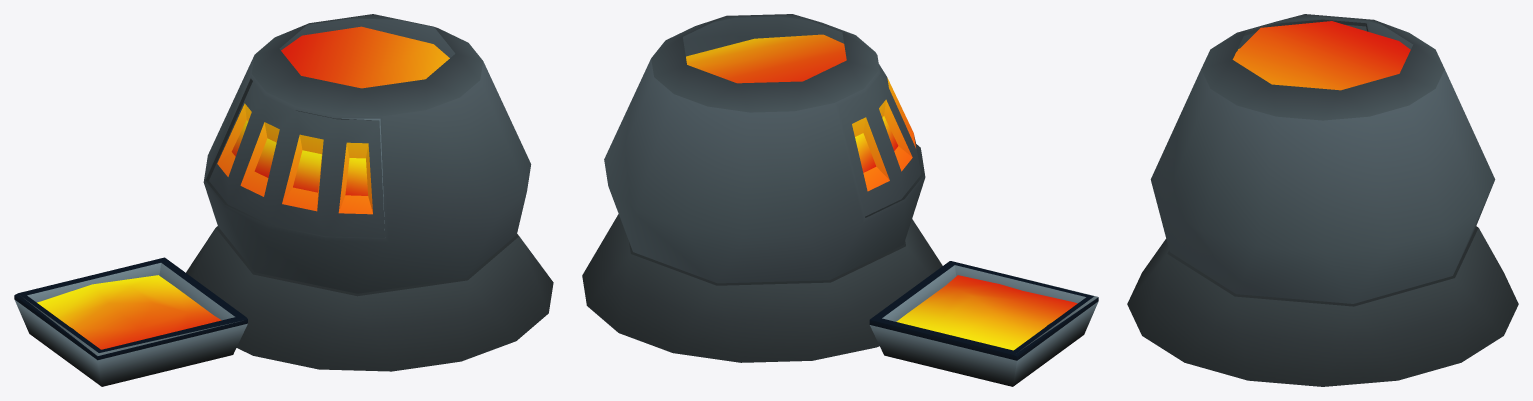
The model's file is smelter_lvl1.glb.
3 renders of one model, left to right at view 1: azimuth 30°, elevation 25°; view 2: azimuth 150°, elevation 25°; view 3: azimuth 270°, elevation 25°, orthographic. The views are drawn at different scales.
Parts seen in each view (by area): view 1: smelter_base.002, smelter_lvl1, smelter_wagon.002, smelter_lava.008, smelter_Circle.002; view 2: smelter_base.002, smelter_lvl1, smelter_wagon.002, smelter_lava.008, smelter_Circle.002; view 3: smelter_base.002, smelter_lvl1, smelter_Circle.002.
Part boxes in pixels (bbox=[...]): smelter_base.002: bbox=[203, 14, 531, 293]; smelter_lvl1: bbox=[186, 226, 553, 371]; smelter_wagon.002: bbox=[14, 257, 247, 386]; smelter_lava.008: bbox=[37, 275, 221, 349]; smelter_Circle.002: bbox=[281, 26, 449, 88]; smelter_base.002: bbox=[604, 14, 925, 283]; smelter_lvl1: bbox=[582, 214, 942, 362]; smelter_wagon.002: bbox=[869, 261, 1098, 386]; smelter_lava.008: bbox=[896, 275, 1077, 350]; smelter_Circle.002: bbox=[686, 34, 846, 83]; smelter_base.002: bbox=[1150, 14, 1495, 303]; smelter_lvl1: bbox=[1127, 226, 1518, 386]; smelter_Circle.002: bbox=[1232, 21, 1410, 90].
Bounding box in the file's own units: 2.03 × 1 × 1.41.
2 materials, 2 textured.
